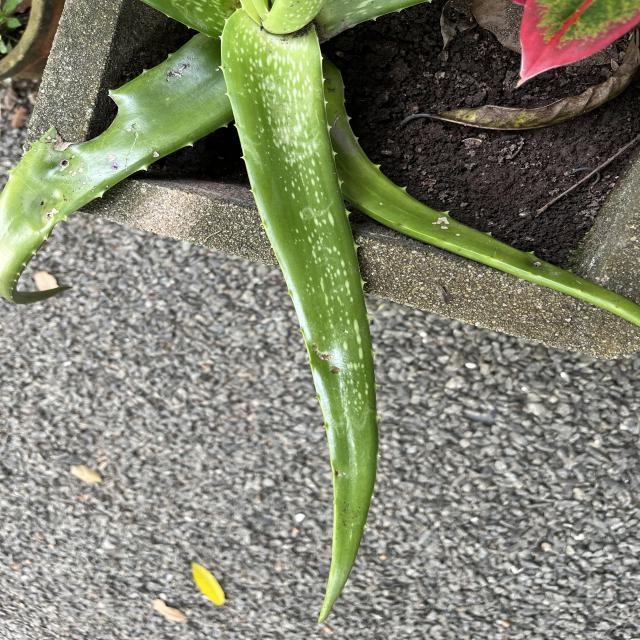Aloe vera: (214, 8, 386, 632)
